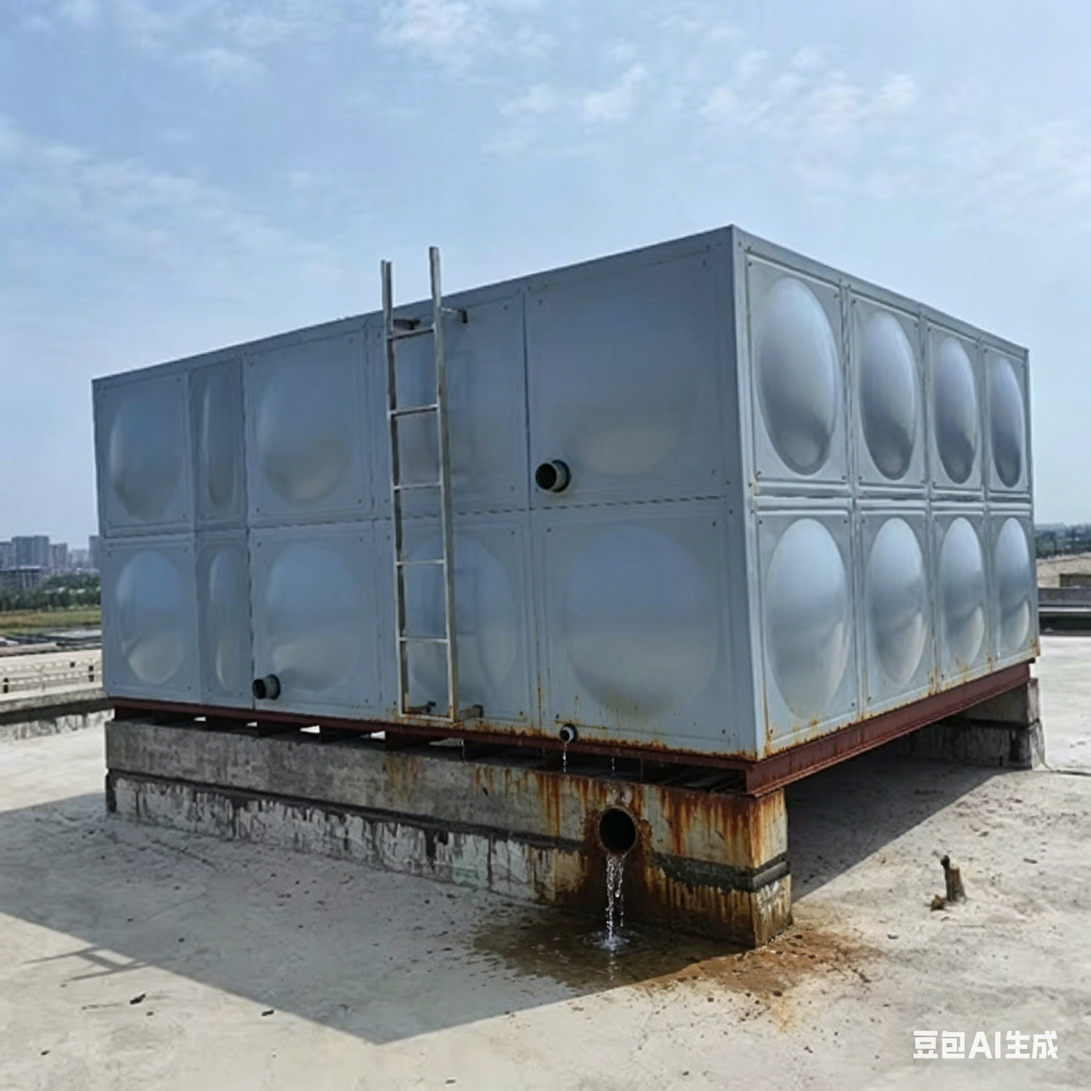Leakage: (590, 802, 676, 1003), (694, 906, 858, 997), (511, 900, 592, 979)
